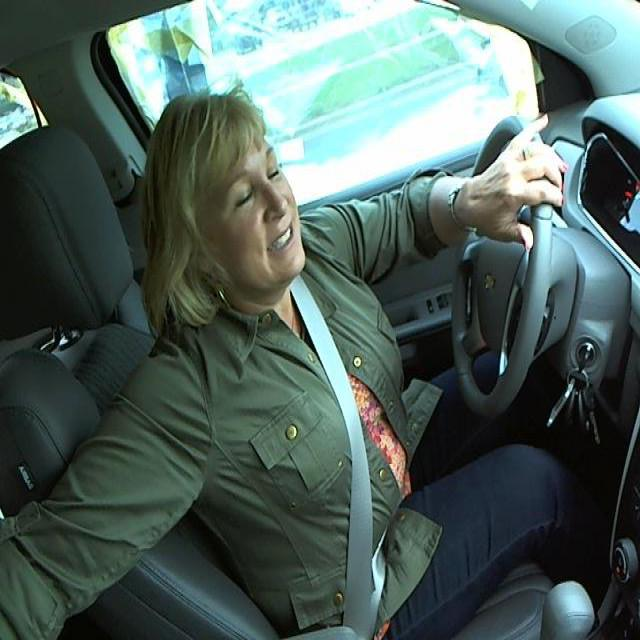seatbelt: (296, 305, 395, 623)
